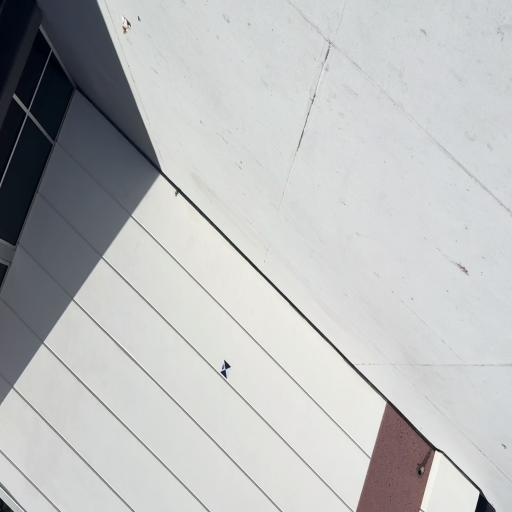target4: (220, 359, 231, 379)
